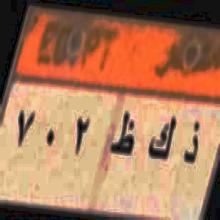0: (41, 118, 61, 161)
2: (68, 108, 96, 164)
7: (10, 106, 36, 154)
Thaa: (110, 106, 138, 163)
kaaf: (145, 107, 179, 165)
zaal: (183, 114, 203, 174)
